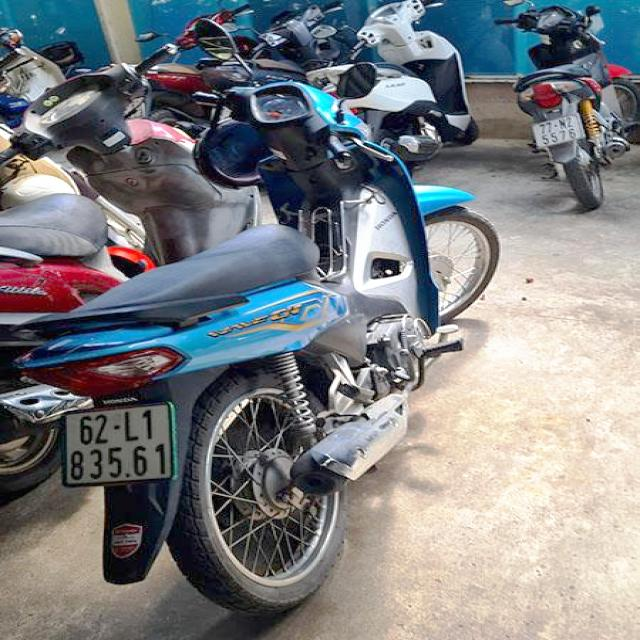license_plate: (66, 402, 180, 491), (538, 113, 588, 150)
